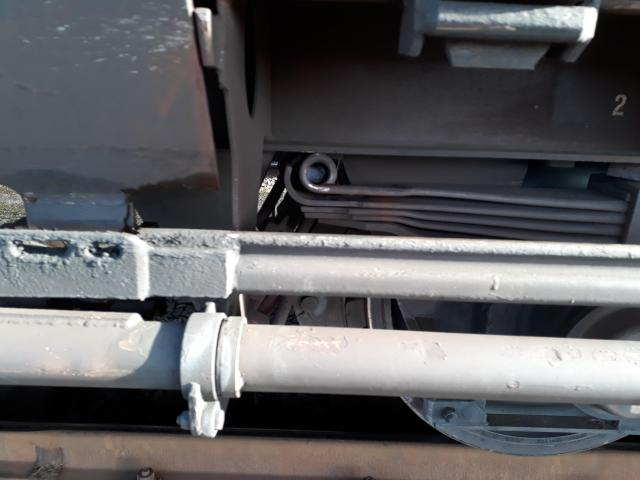blattfederww: (273, 154, 624, 246)
